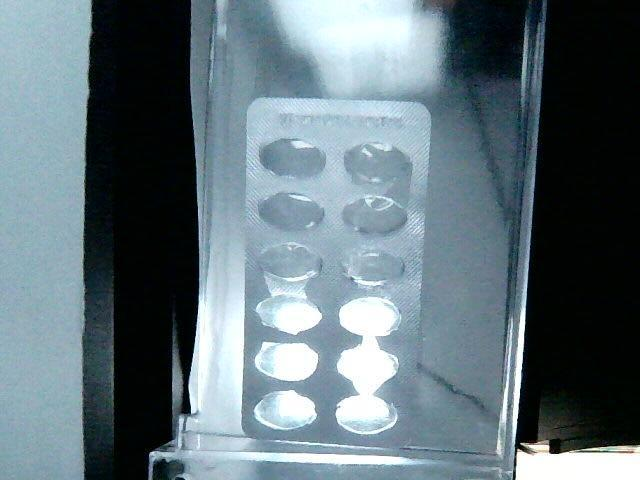Light Front: (242, 98, 431, 450)
No Pill Front: (251, 189, 327, 236), (347, 136, 416, 185), (261, 132, 328, 182), (249, 293, 326, 335), (341, 249, 412, 289), (345, 195, 411, 235), (256, 245, 330, 280), (338, 297, 405, 334), (334, 396, 399, 433), (257, 344, 317, 382), (336, 351, 399, 382), (252, 394, 314, 424)
